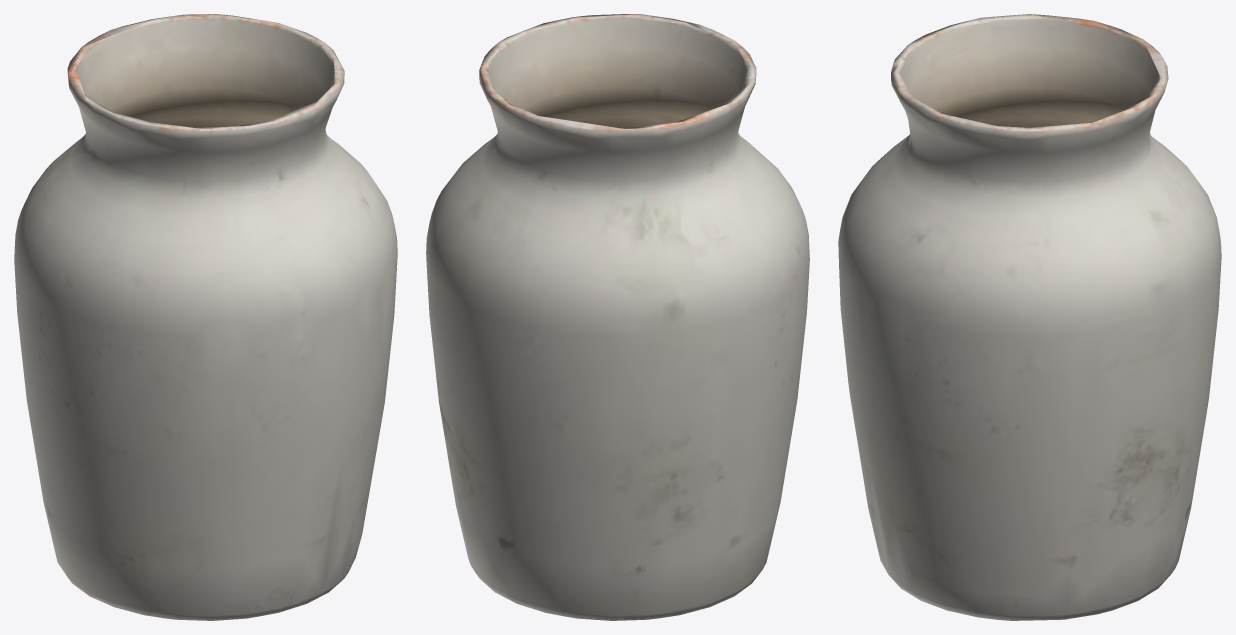
File: ceramic_vase_02.glb
The picture shows the model from 3 angles, left to right: view 1: azimuth 30°, elevation 25°; view 2: azimuth 150°, elevation 25°; view 3: azimuth 270°, elevation 25°; orthographic projection.
Visible parts, largest first — view 1: ceramic_vase_02; view 2: ceramic_vase_02; view 3: ceramic_vase_02.
Part boxes in pixels (<box>): ceramic_vase_02: <box>14,14,397,620</box>; ceramic_vase_02: <box>426,14,809,620</box>; ceramic_vase_02: <box>838,14,1221,620</box>.
Size of the model in its own units: 0.2184 by 0.3091 by 0.218.
1 material, 1 textured.
